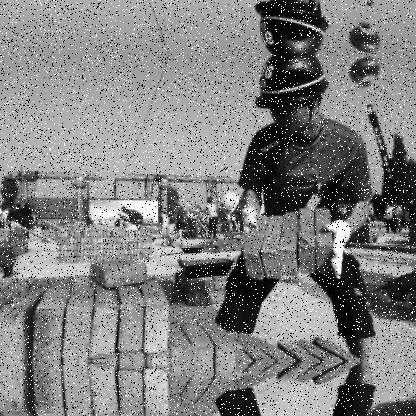Helmet: (252, 51, 332, 128)
